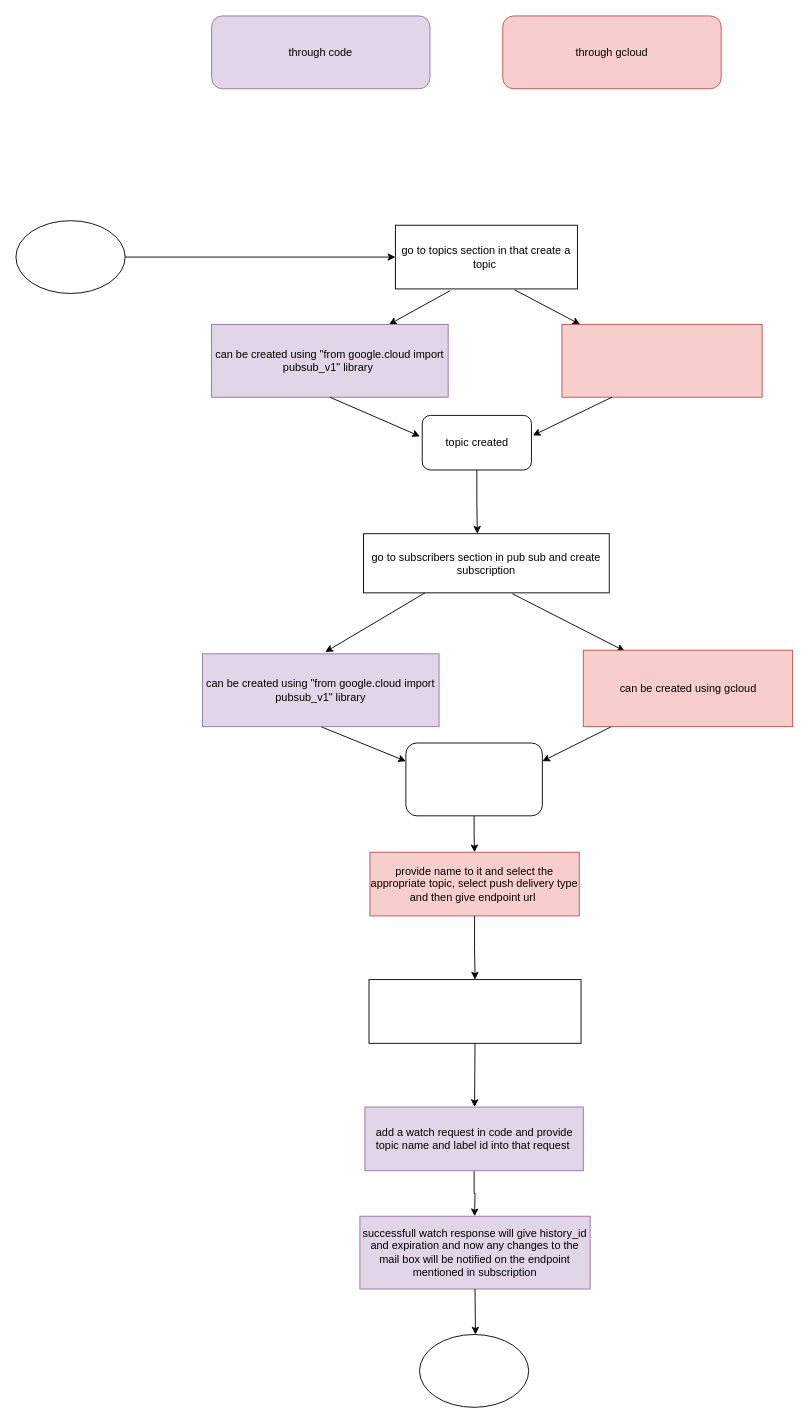
Image size: 809x1423. Some labels were removed from this diagram. Each missing label, with the centre of its shape:
"can be created using google cloud" goes at point 661,360.
"start pub sub" goes at point 70,256.
"stop" goes at point 474,1370.
"subscription created" goes at point 473,779.
"subscription created for a user" goes at point 474,1011.
